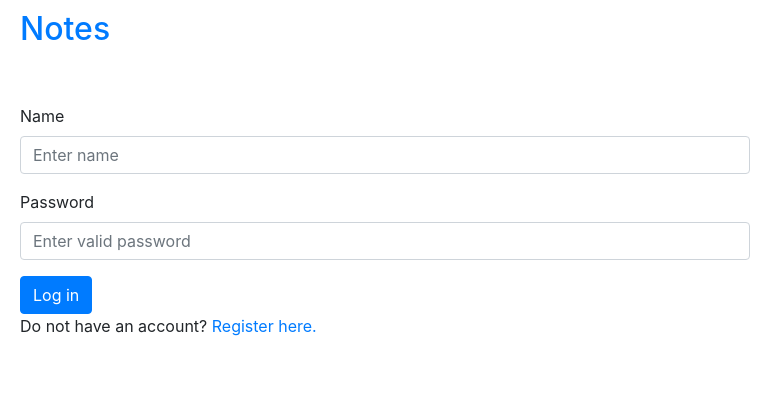
Test case: Login Test › Should display errors on login without credentials
This screenshot has width=767, height=401.
Click the button with test id "login".
click(56, 295)  # box [20,276,92,314]
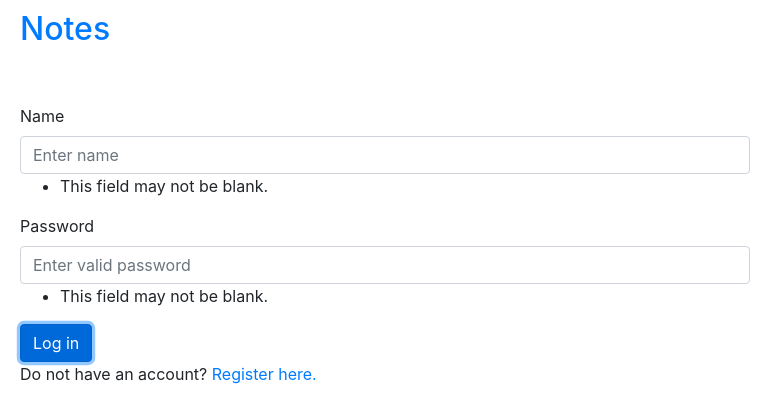
Now the list item with test id "login-error" reads "This field may not be blank.", box [60,176,268,196]
Now the list item with test id "password-error" reads "This field may not be blank.", box [60,286,268,306]
